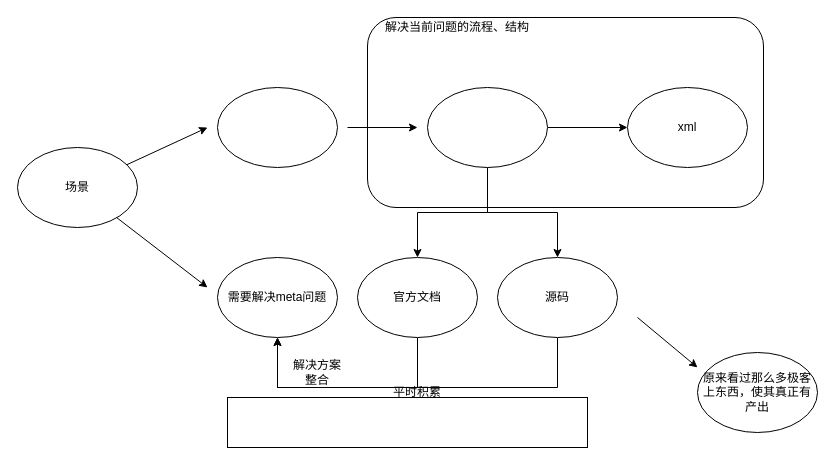
Some shapes in this 835 by 465 pixel diagram are drawn without their labels. The centre of each missing label's shape, as x and y in pixels:
"1.解决什么问题、解决过程中引发什么问题又是如何解决的 2.如何设计的比如api/实现细节(重点) 3.从中学到哪些知识、拆分赋能到meta" goes at (407,422).
"mybatis" goes at (487,127).
"需要写sql\写mybatis文件" goes at (277,127).
